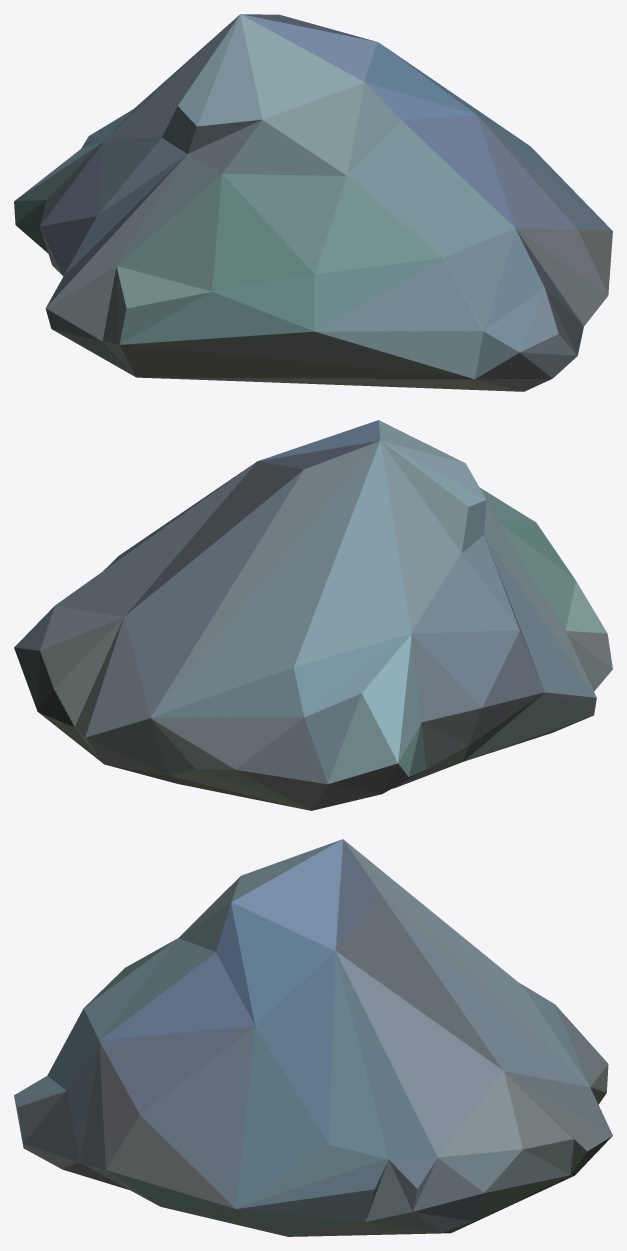
The model's file is dust.fbx.
3 views of the same model, one above another, from view 1: azimuth 30°, elevation 25°; view 2: azimuth 150°, elevation 25°; view 3: azimuth 270°, elevation 25° (orthographic). The views are drawn at different scales.
Parts seen in each view (by area): view 1: Mesh_0; view 2: Mesh_0; view 3: Mesh_0.
Boxes of the visible parts, x1,y1,x2,y2 form: Mesh_0: (14, 14, 612, 391); Mesh_0: (14, 420, 612, 810); Mesh_0: (14, 839, 612, 1236).
Size of the model in its own units: 110 by 74.65 by 118.
1 material, 1 textured.
